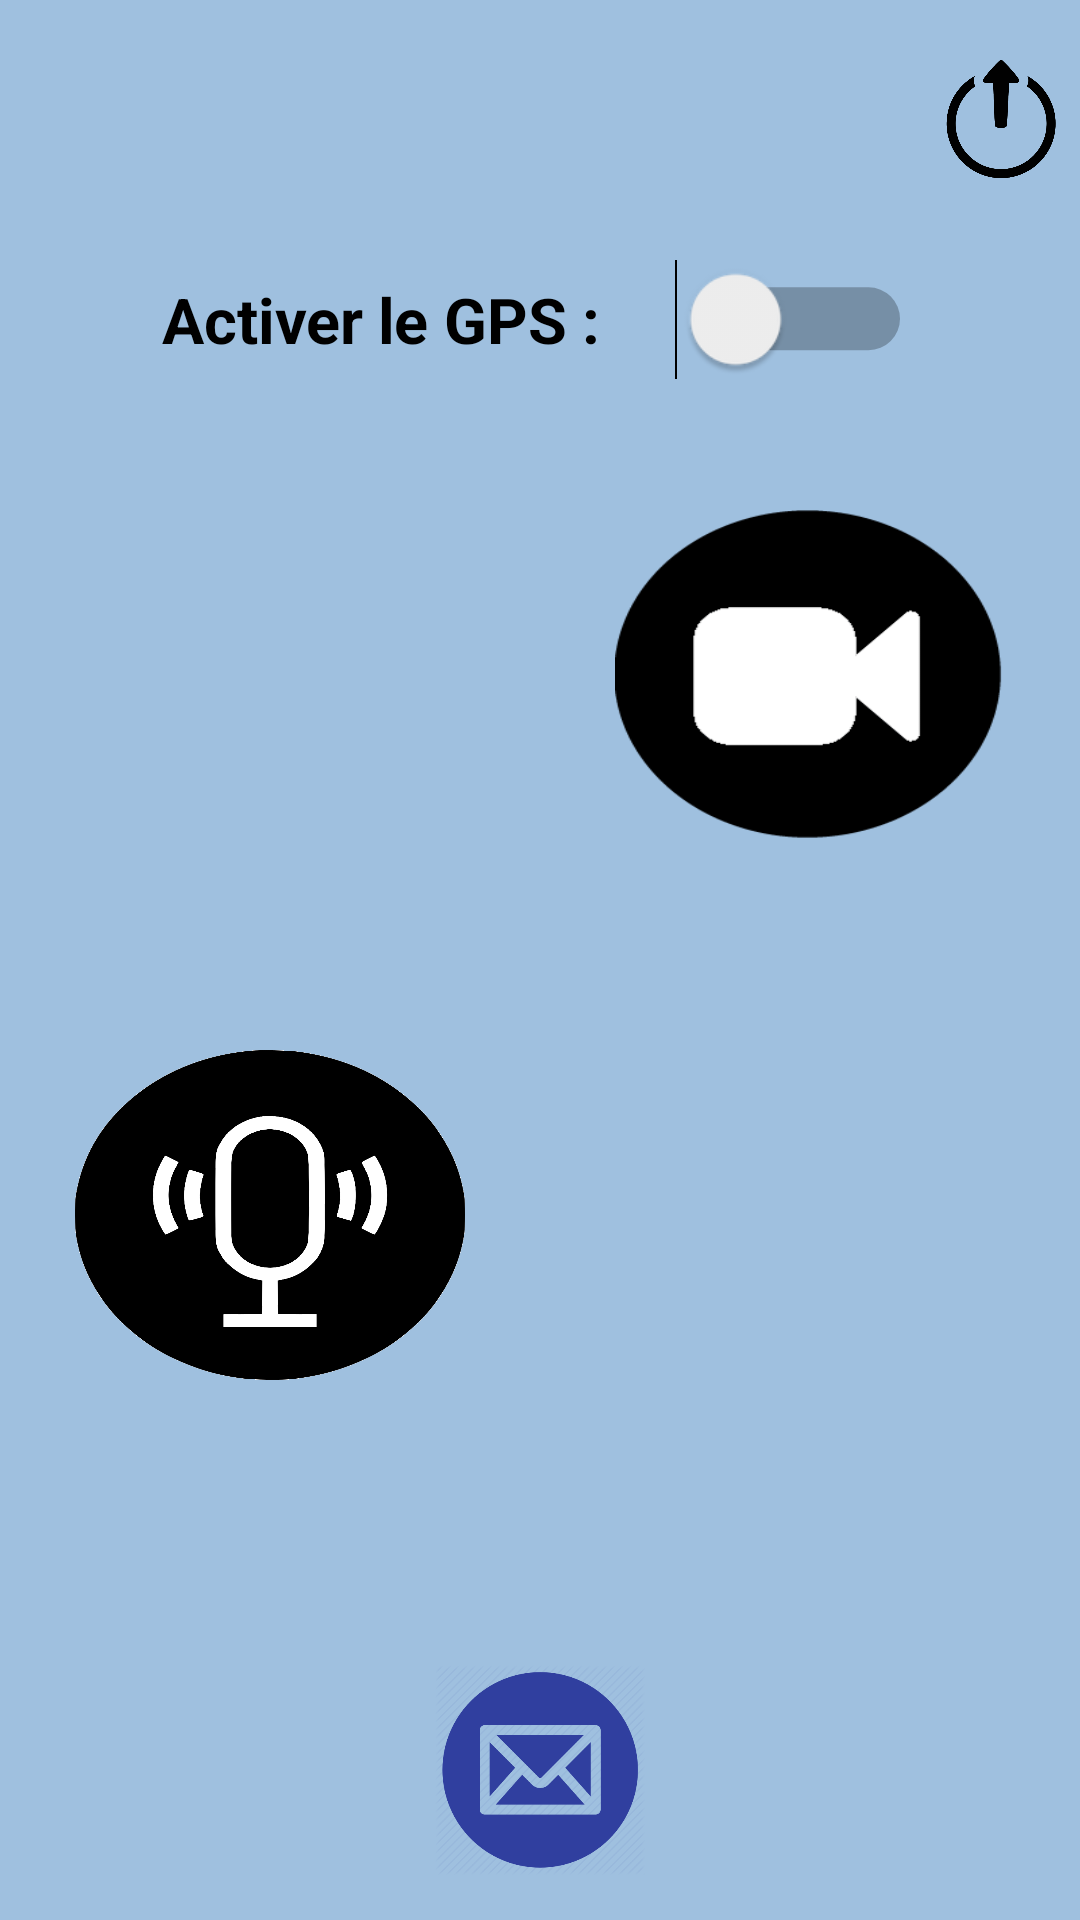

Icon bounding boxes for this 1080w x 1920h phone screenshot, format (x1, y1, x2, y2):
letter: (442, 1672, 638, 1868)
